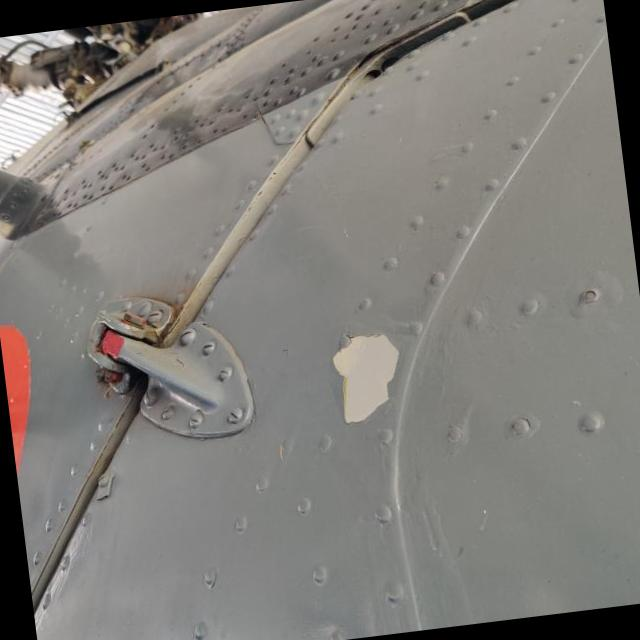Paint-off: (333, 334, 399, 423)
